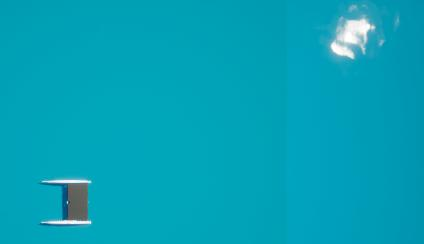boat: (40, 178, 93, 229)
drone: (68, 184, 87, 219)
land_base: (319, 0, 413, 67)
